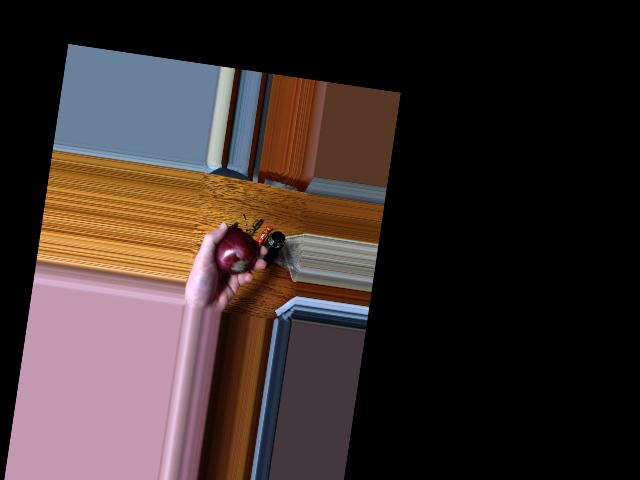onion: (213, 229, 259, 275)
